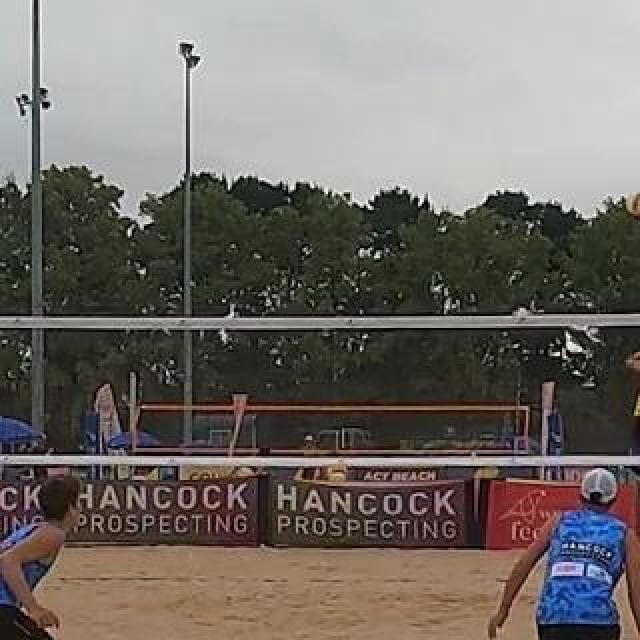volleyball: (626, 190, 640, 220)
